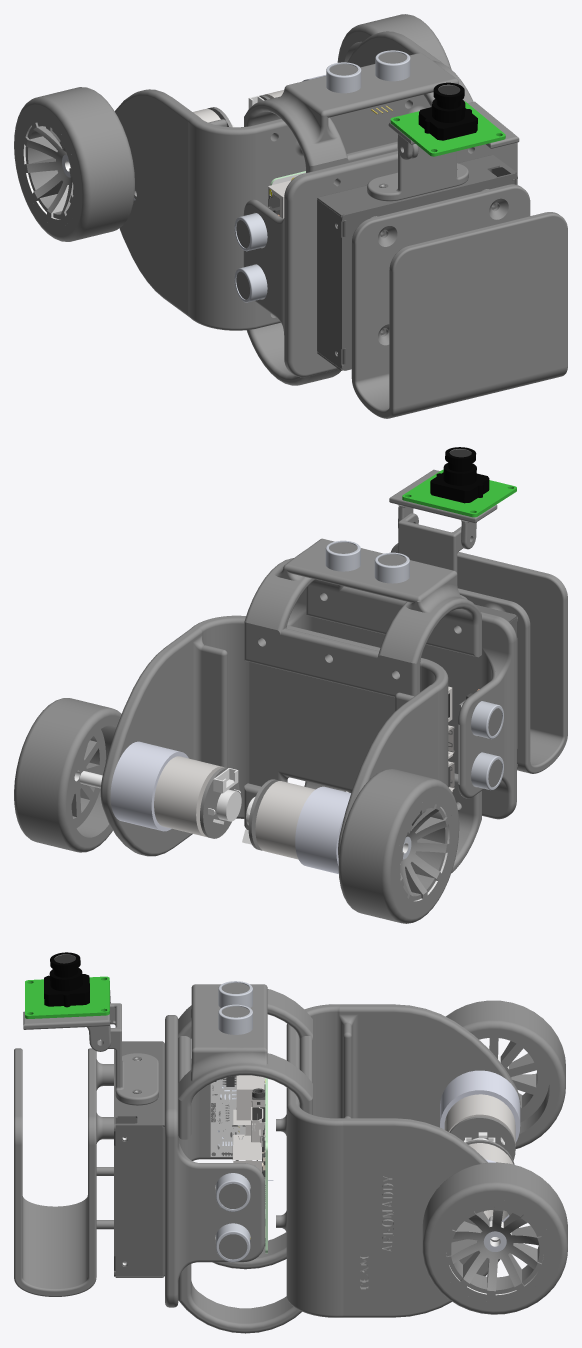
File: robot-assembly.glb
The picture shows the model from 3 angles, top to bottom: view 1: azimuth 30°, elevation 25°; view 2: azimuth 150°, elevation 25°; view 3: azimuth 270°, elevation 25°; orthographic projection.
Visible parts, largest first — view 1: robot assembly; view 2: robot assembly; view 3: robot assembly.
Part boxes in pixels (<box>): robot assembly: <box>14,14,567,418</box>; robot assembly: <box>14,447,567,923</box>; robot assembly: <box>14,952,567,1333</box>.
Size of the model in its own units: 0.196 by 0.169 by 0.2551.
